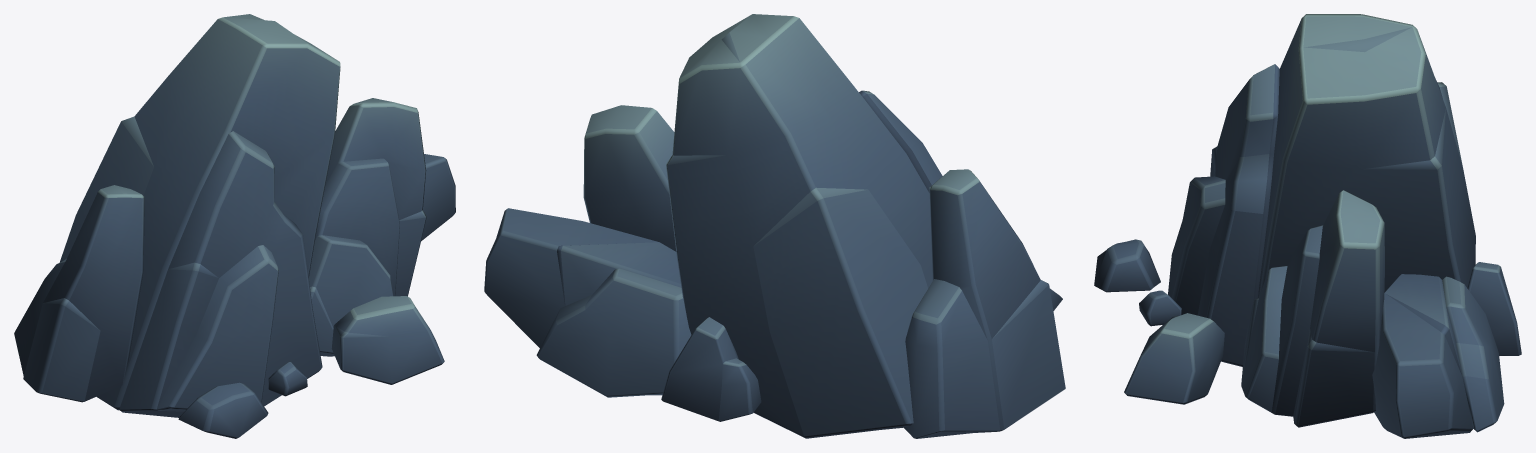
The model's file is rock_arrangement_large.fbx.
3 renders of one model, left to right at view 1: azimuth 30°, elevation 25°; view 2: azimuth 150°, elevation 25°; view 3: azimuth 270°, elevation 25°, orthographic. The views are drawn at different scales.
Visible parts, largest first — view 1: rock_arrangement_large; view 2: rock_arrangement_large; view 3: rock_arrangement_large.
Part boxes in pixels (x1,y1,x2,y2): rock_arrangement_large: (14, 14, 455, 438); rock_arrangement_large: (484, 14, 1065, 438); rock_arrangement_large: (1094, 14, 1521, 438).
Bounding box in the file's own units: 1599 × 1077 × 1107.
1 material, 1 textured.
